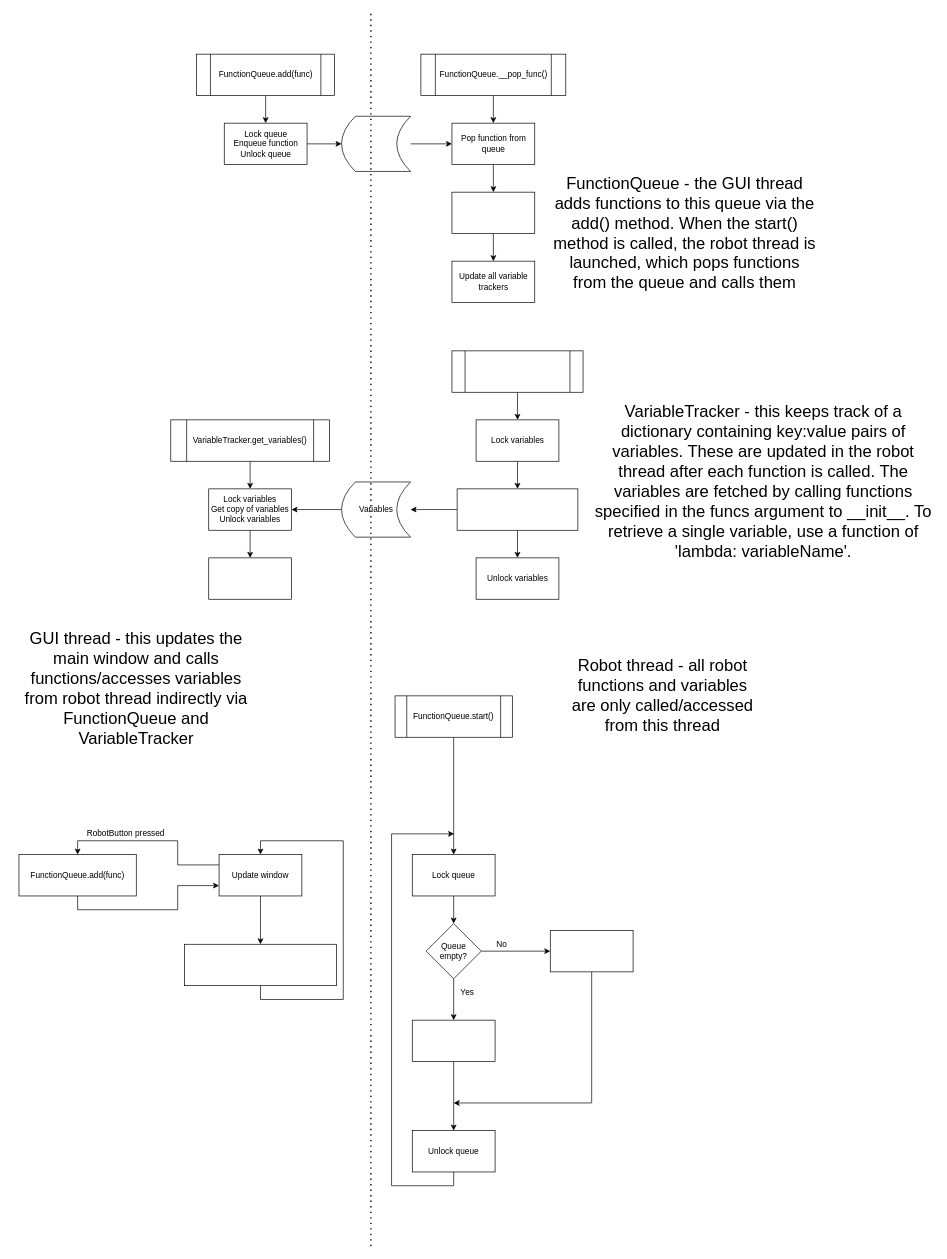
Some shapes in this 947 by 1259 pixel diagram are drawn without their labels. The box of each missing label's shape, as (x1, y1, x2, y2) in pixels:
__pop_func(): (550, 930, 633, 972)
Clear variables Update variables with new values returned by self.funcs: (456, 488, 578, 530)
Queue: (341, 116, 411, 171)
Return copy of variables: (208, 557, 292, 599)
Unlock queue Call function Lock queue: (451, 191, 535, 234)
Update RobotLabels using VariableTracker.get_variables(): (184, 944, 336, 986)
VariableTracker.update(): (451, 350, 583, 392)
Wait for item: (412, 1019, 495, 1062)
